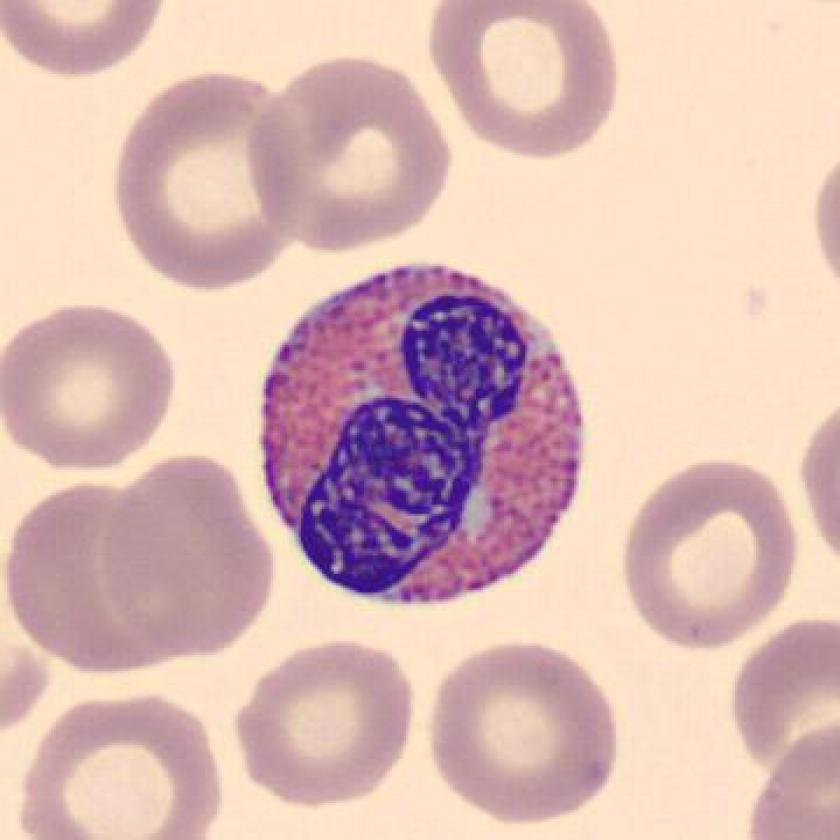eosinophil: (244, 249, 598, 624)
